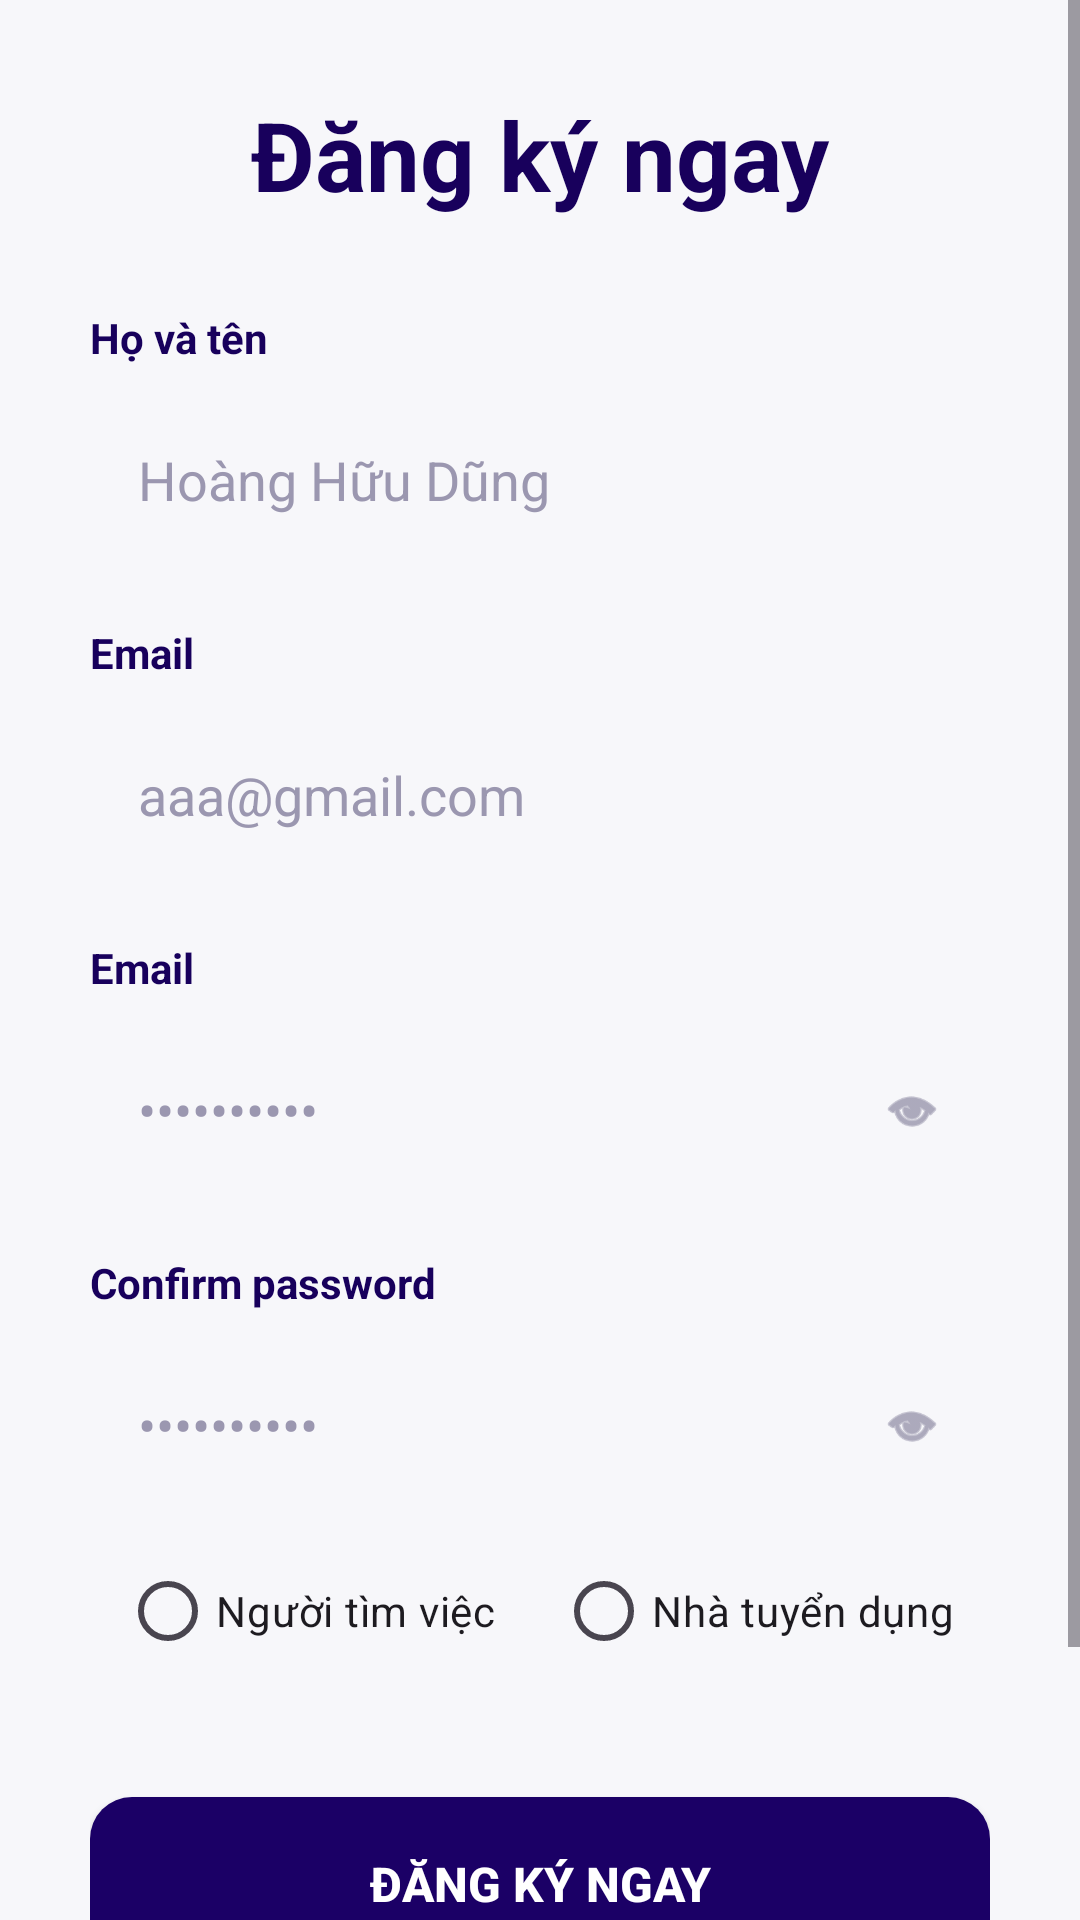

Icons on this 1080*1920 Android screen, each with the point to tap as [x,y]:
view: [912,1111], [912,1426]
